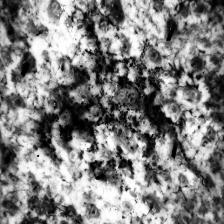Benign Marking or Mole: (16, 0, 182, 180)
